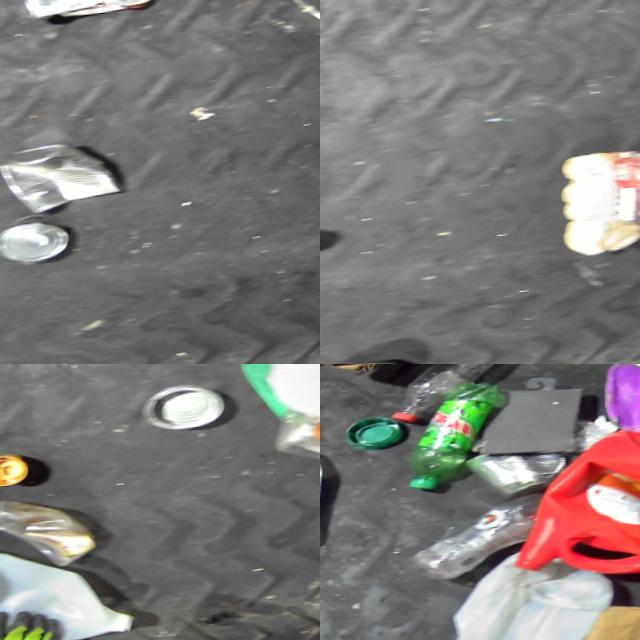can: (0, 136, 121, 222), (457, 446, 571, 507), (129, 381, 222, 437), (13, 0, 153, 28), (0, 219, 64, 271), (278, 0, 320, 39)
milk_jug: (424, 541, 624, 640), (0, 532, 125, 640)
non_white_jug: (485, 416, 640, 610)
plastic_bottle: (391, 493, 551, 589), (373, 364, 523, 426)
